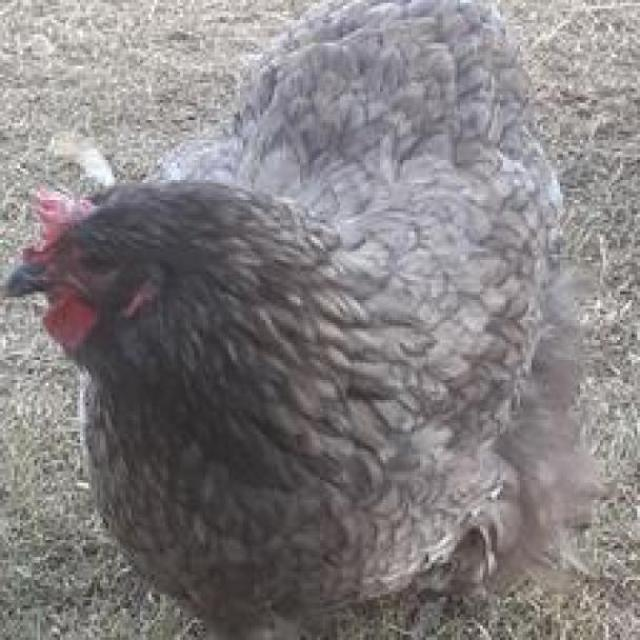Chicken: (13, 4, 601, 640)
